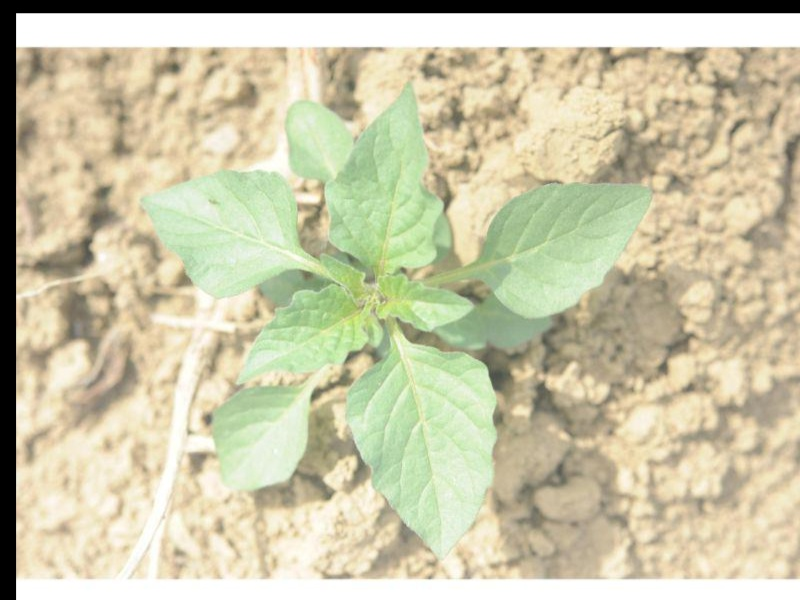nightshade: (139, 81, 653, 558)
